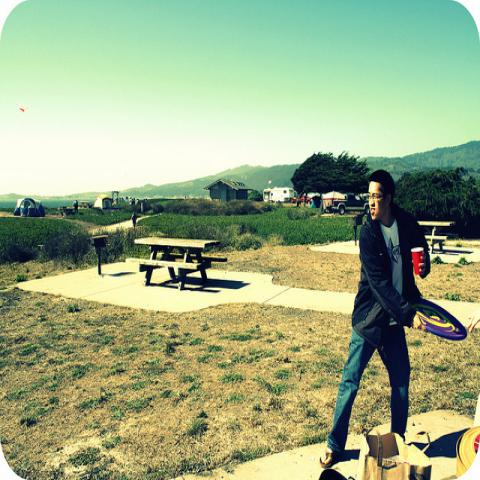car: (297, 190, 324, 210)
truck: (331, 192, 370, 216)
